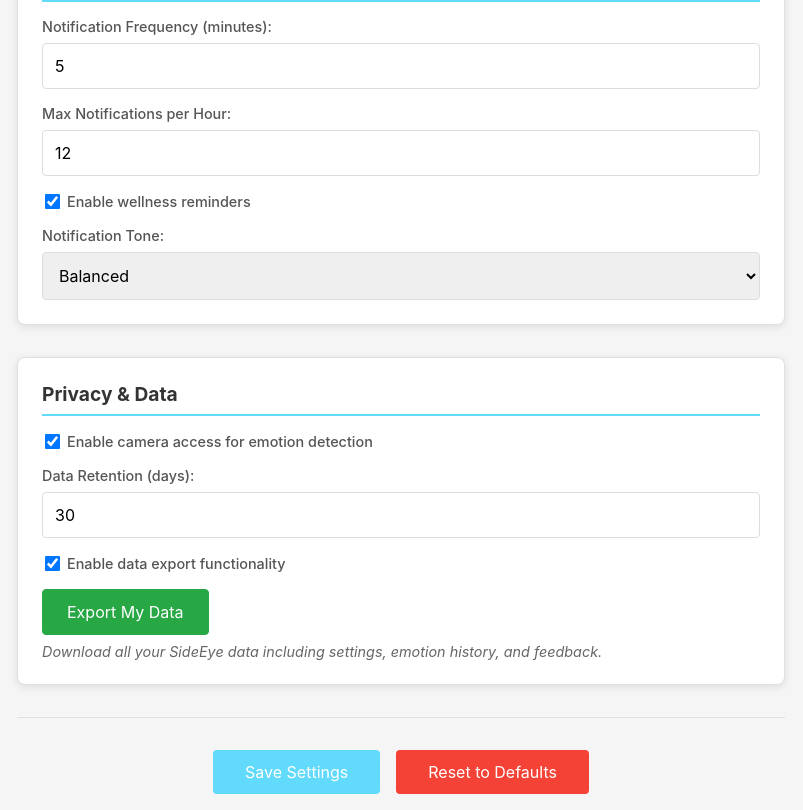
SettingsPanel › disables export button when data export is disabled
The image size is (803, 810).
(page scrolled)
Expected: the button "Export My Data" is enabled, [42,588,209,634]
Step 1. Click the checkbox labelled "Enable data export functionality" → (52, 563), box [45,555,60,571]
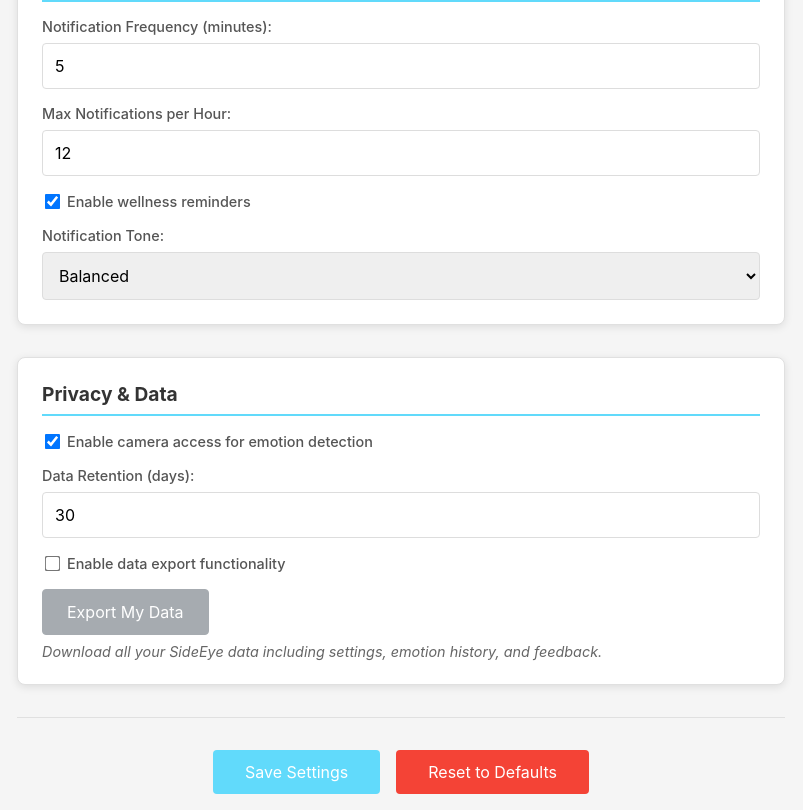
Expected: the button "Export My Data" is disabled, [42,588,209,634]
